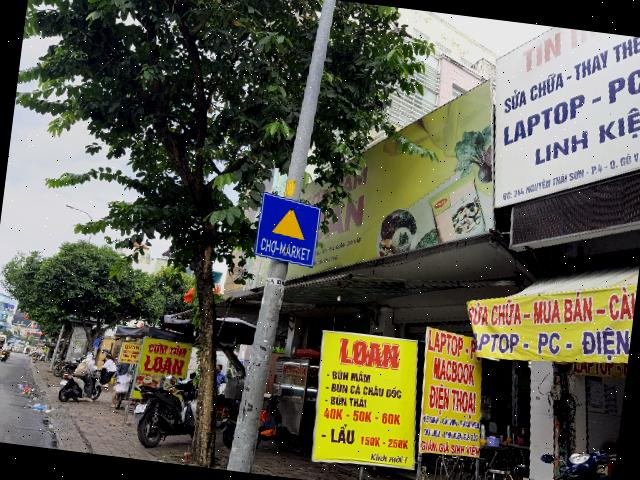khu-vuc-cho-phia-truoc: (252, 191, 322, 268)
